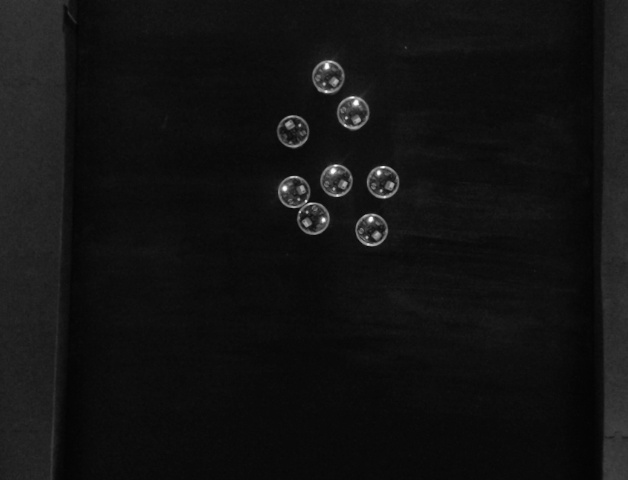epuck_2: (354, 210, 389, 248), (335, 96, 372, 131), (308, 60, 344, 94), (366, 165, 400, 200), (276, 114, 309, 148), (319, 165, 353, 198), (298, 203, 330, 236), (277, 175, 309, 207)
